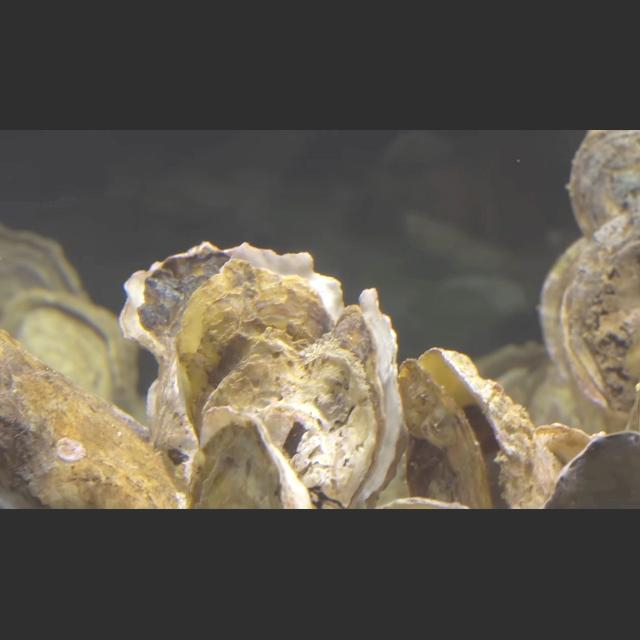Oyster-Closed: (204, 327, 380, 511), (172, 256, 336, 450), (539, 213, 640, 415), (0, 226, 92, 334), (568, 130, 640, 240)
Oyster-Open: (121, 242, 349, 494), (0, 326, 194, 511), (402, 347, 564, 511), (322, 285, 408, 511), (2, 288, 140, 416), (182, 400, 318, 510)
